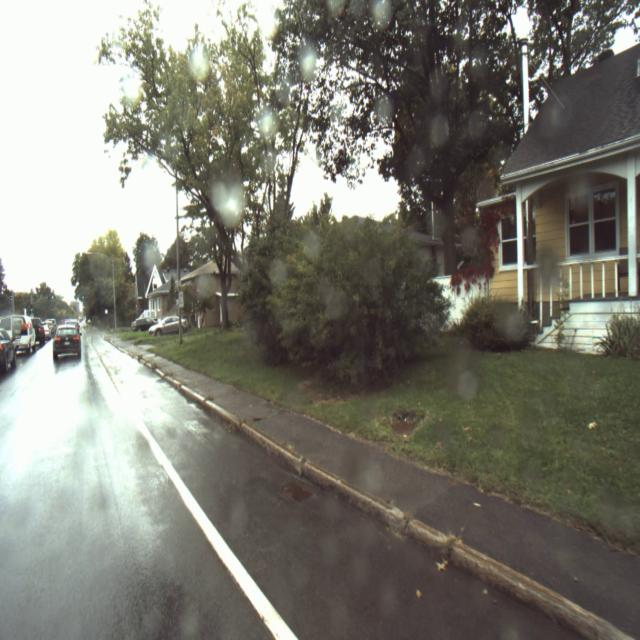car: (52, 323, 82, 363), (9, 315, 35, 356), (148, 316, 187, 338), (1, 329, 18, 376), (32, 315, 44, 349), (131, 320, 154, 333)
